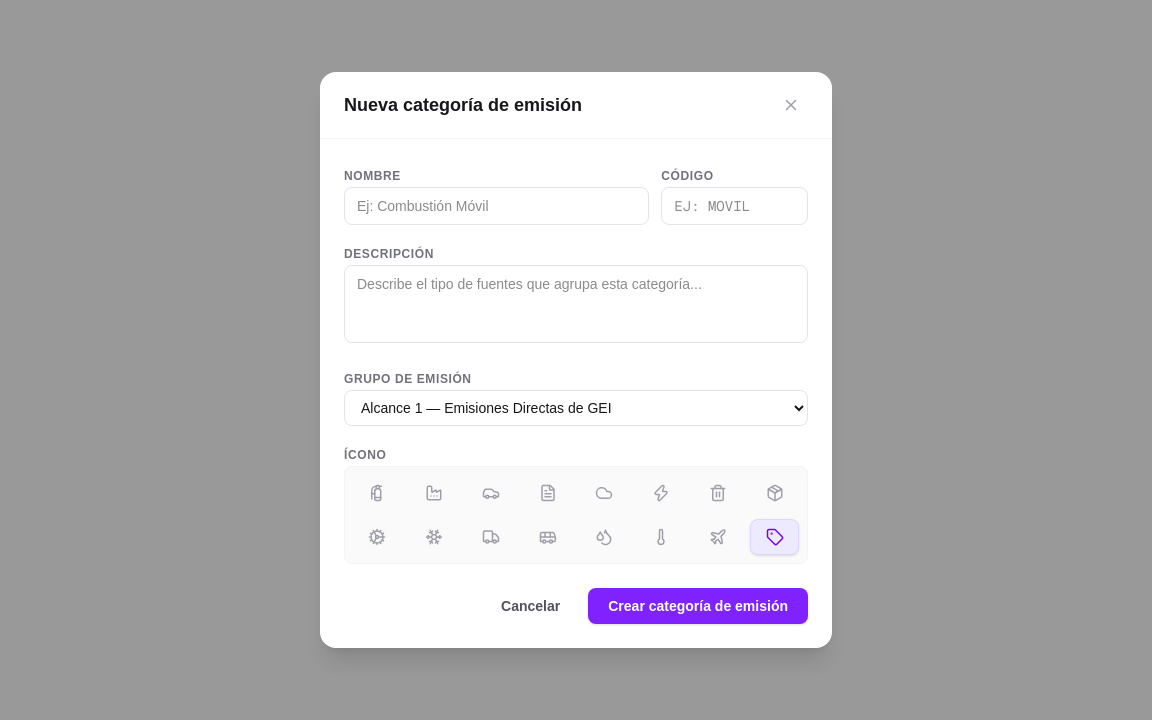
Scenario: EmissionSourceCategoryFormModal › C-05 — Código con 1 caracter falla validación › muestra error de longitud mínima del código
Type "Nombre válido" into the field with placeholder "Ej: Combustión Móvil" at (497, 206), box [344, 187, 649, 225]
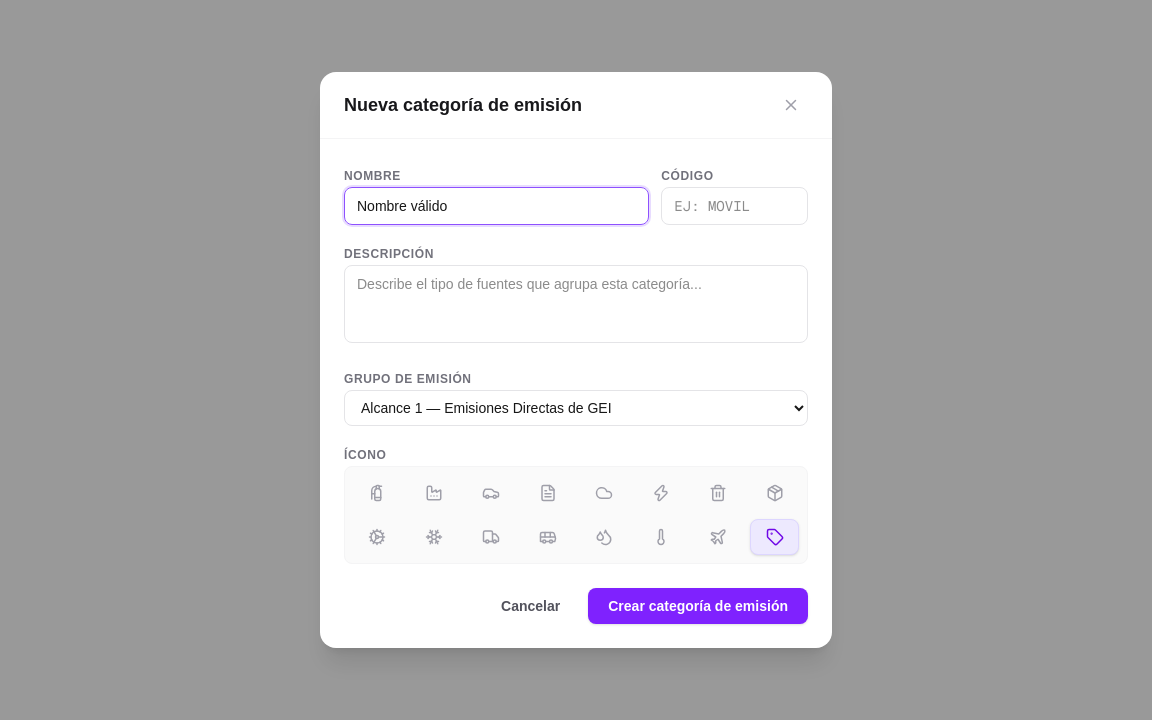
Type "A" into the field with placeholder "Ej: MOVIL" at (735, 206), box [661, 187, 808, 225]
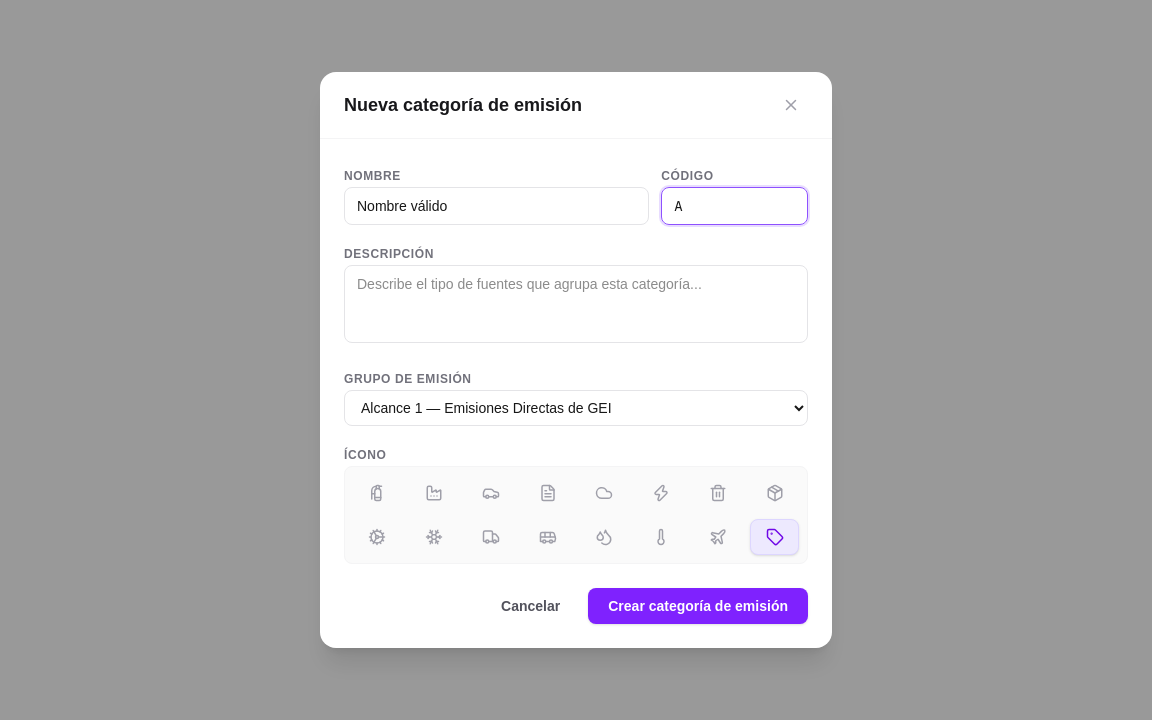
Click the button "Crear categoría de emisión" at (698, 606), box [588, 588, 808, 624]
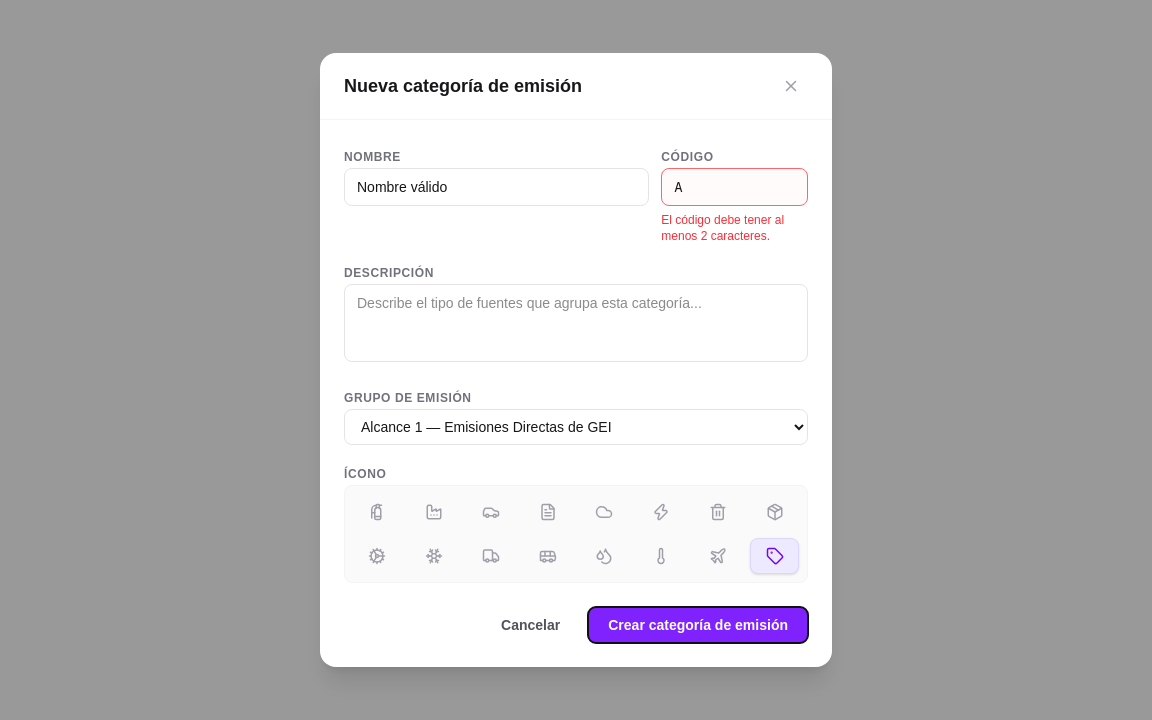
Expected: the text "El código debe tener al menos 2 caracteres." is shown, [661, 213, 784, 243]
